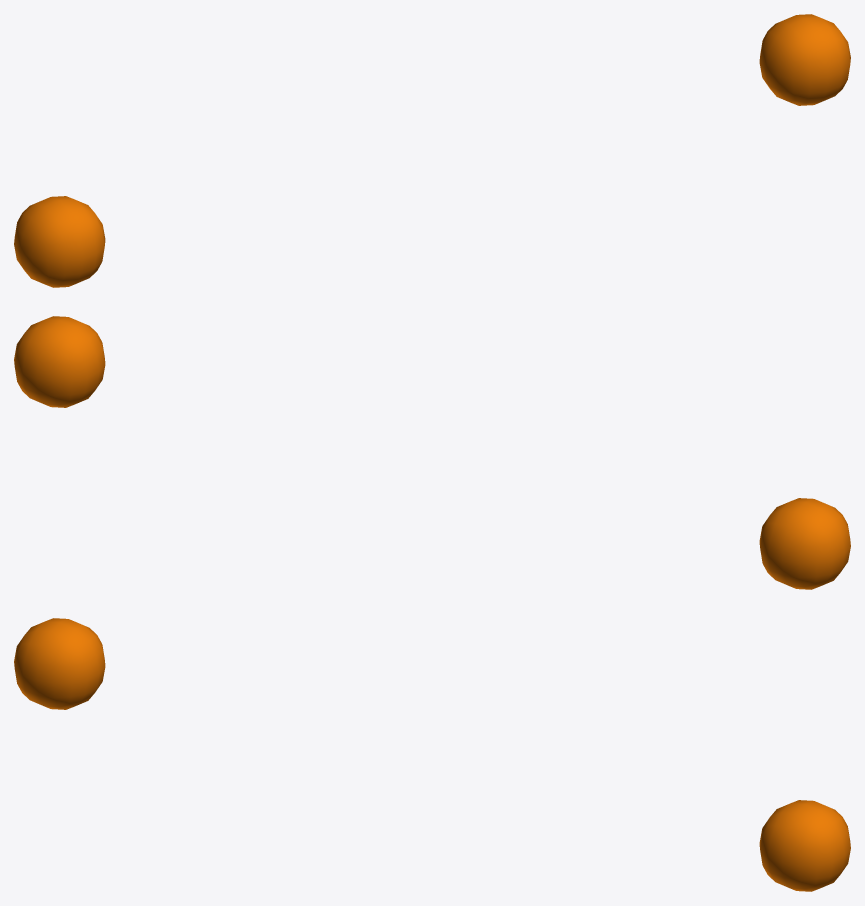
Rendered from ARMS.fbx.
3 renders of one model, top to bottom at view 1: azimuth 30°, elevation 25°; view 2: azimuth 150°, elevation 25°; view 3: azimuth 330°, elevation 25°, orthographic.
Parts seen in each view (by area): view 1: Cube.001; view 2: Cube.001; view 3: Cube.001.
Part boxes in pixels (<box>): Cube.001: <box>14,14,850,287</box>; Cube.001: <box>14,316,850,589</box>; Cube.001: <box>14,618,850,891</box>.
Size of the model in its own units: 2.77 by 0.2662 by 0.2662.
